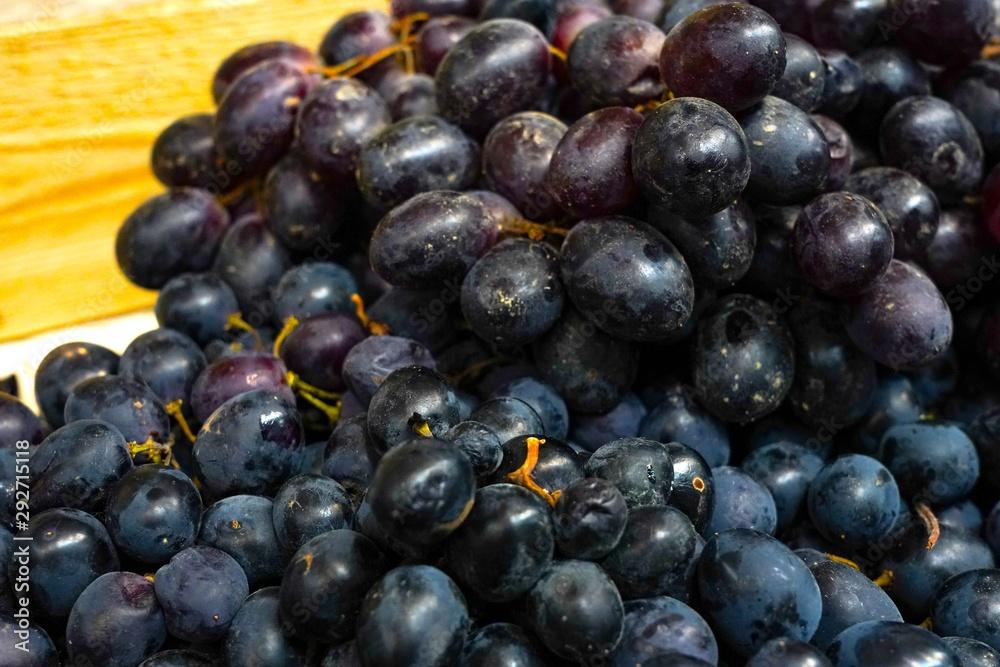Grape Rotten: (3, 1, 996, 665)
